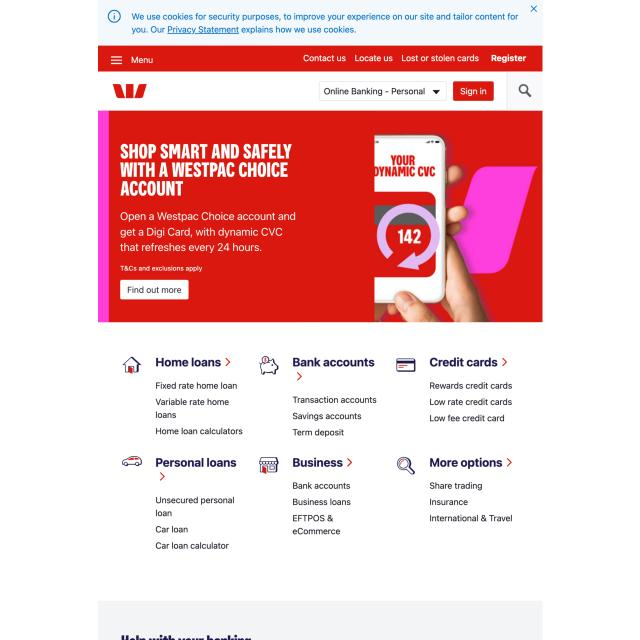CheckBox: (155, 452, 241, 482), (288, 355, 379, 383), (428, 452, 514, 472), (427, 352, 511, 372), (152, 352, 233, 372), (507, 71, 542, 111), (120, 280, 188, 299), (452, 78, 494, 102), (291, 454, 354, 470), (489, 51, 530, 66)
ProgressBar: (96, 0, 541, 46)
alert: (318, 80, 447, 102)
bag: (97, 45, 544, 111)
card: (97, 111, 542, 323)
carousel: (255, 352, 282, 378), (256, 454, 281, 477), (394, 454, 416, 478), (120, 355, 145, 375), (120, 450, 145, 470), (393, 356, 418, 375)
date picker: (106, 77, 157, 104)
decoration: (297, 52, 483, 67), (106, 53, 157, 69)
